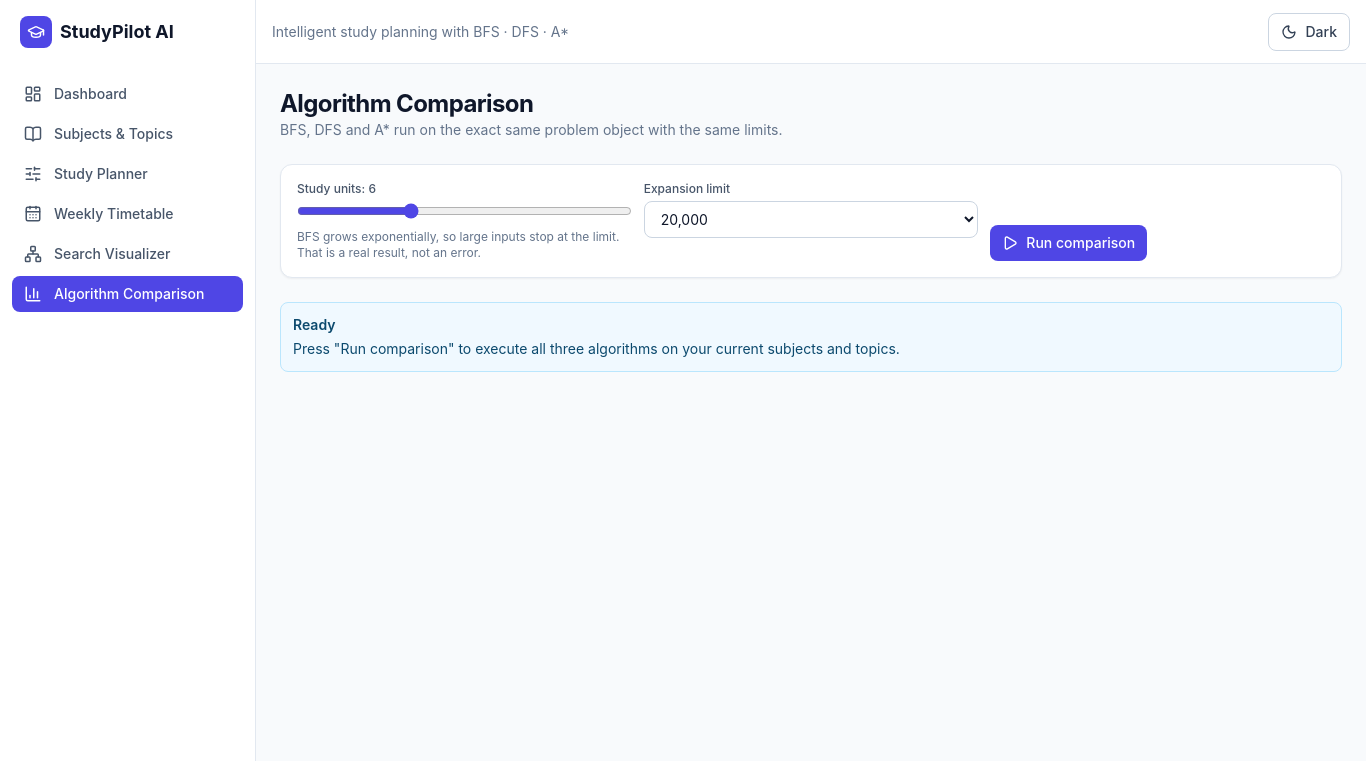
Test: StudyPilot AI app › comparison page runs all three algorithms and shows honest statuses
Click the button "Run comparison" at [1069, 243], box [990,225,1147,261]
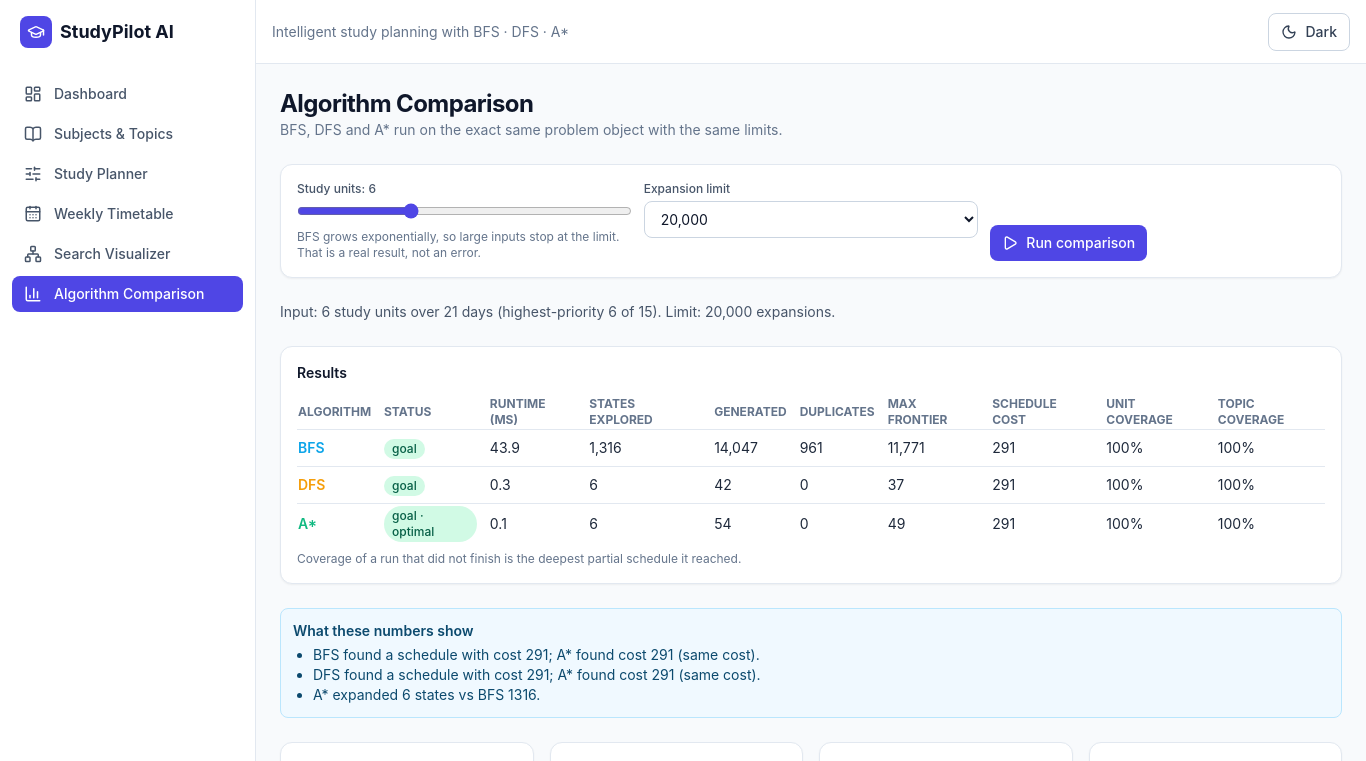
Now the number of rows is 4, box [297,395,1325,430]; [297,430,1325,466]; [297,466,1325,504]; [297,504,1325,543]
Now the text "goal · optimal" is shown, box [384,506,477,542]
